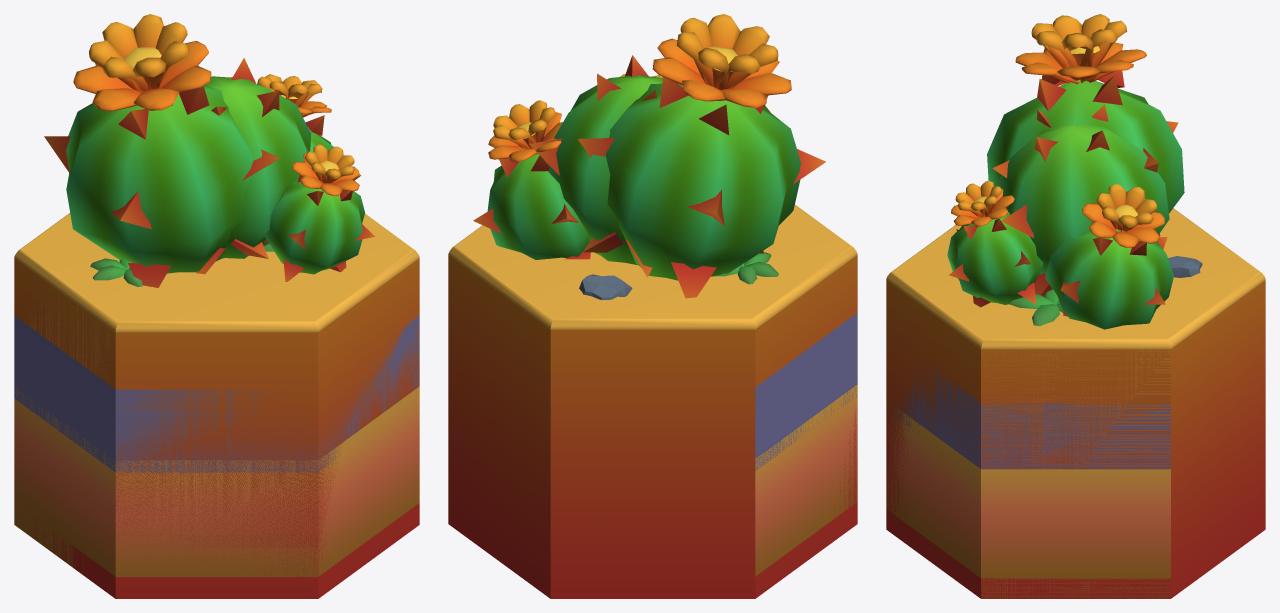
File: assets_samac.fbx
The picture shows the model from 3 angles, left to right: view 1: azimuth 30°, elevation 25°; view 2: azimuth 150°, elevation 25°; view 3: azimuth 270°, elevation 25°; orthographic projection. The views are drawn at different scales.
Visible parts, largest first — view 1: water1, land_animal, xuongrongcohoa, land_xuongrong, xuongrongkohoa, land1_normal; view 2: land1_normal, xuongrongcohoa, land_xuongrong, water1, land_animal, xuongrongkohoa; view 3: water1, land1_normal, xuongrongcohoa, land_animal, land_xuongrong, xuongrongkohoa.
Boxes of the visible parts, box(x1,y1,x2,y2) form: water1: box(14, 315, 419, 576); land_animal: box(14, 244, 419, 598); xuongrongcohoa: box(44, 14, 374, 287); land_xuongrong: box(14, 213, 419, 572); xuongrongkohoa: box(195, 58, 311, 274); land1_normal: box(32, 283, 115, 598); land1_normal: box(448, 255, 846, 598); xuongrongcohoa: box(473, 14, 825, 298); land_xuongrong: box(448, 205, 857, 539); water1: box(755, 313, 857, 576); land_animal: box(579, 252, 857, 598); xuongrongkohoa: box(530, 55, 662, 277); water1: box(886, 362, 1170, 578); land1_normal: box(981, 280, 1265, 598); xuongrongcohoa: box(947, 14, 1184, 329); land_animal: box(886, 256, 1202, 598); land_xuongrong: box(886, 208, 1265, 598); xuongrongkohoa: box(996, 104, 1169, 296).
Size of the model in its own units: 3.66 by 5.87 by 4.23.
